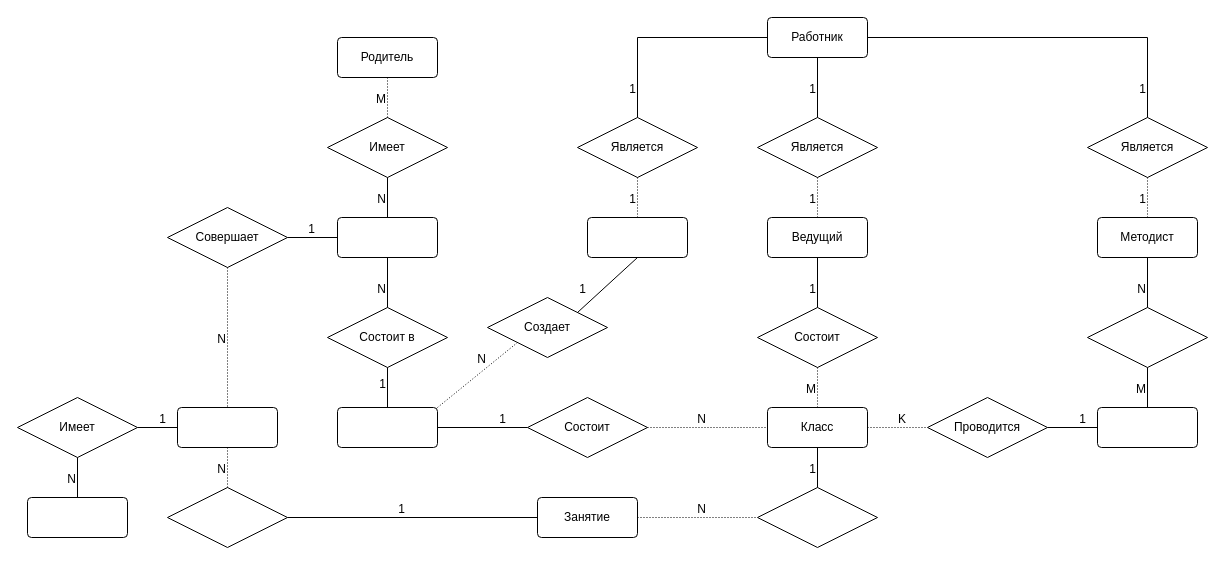
This 1225x565 diagram has some shape labels left out. Here are the shapes that lost their labels. From the top down, the centre of each, then its label:
At (x=387, y=237): "Ребенок".
At (x=637, y=237): "Куратор".
At (x=1147, y=337): "Составляет".
At (x=227, y=427): "Посещение".
At (x=387, y=427): "Группа".
At (x=1147, y=427): "Курс".
At (x=77, y=517): "Оценка навыков".
At (x=227, y=517): "Происходит".
At (x=817, y=517): "Участвует в".
